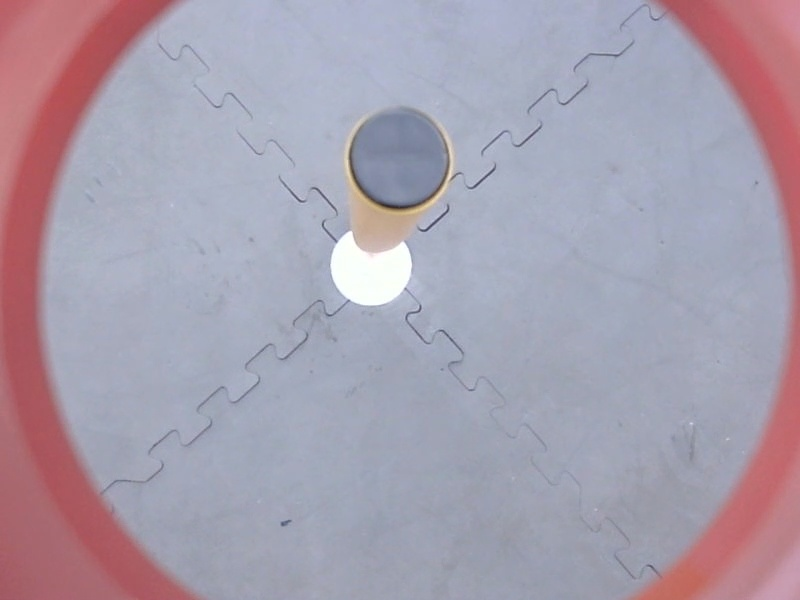tip: (339, 98, 461, 216)
